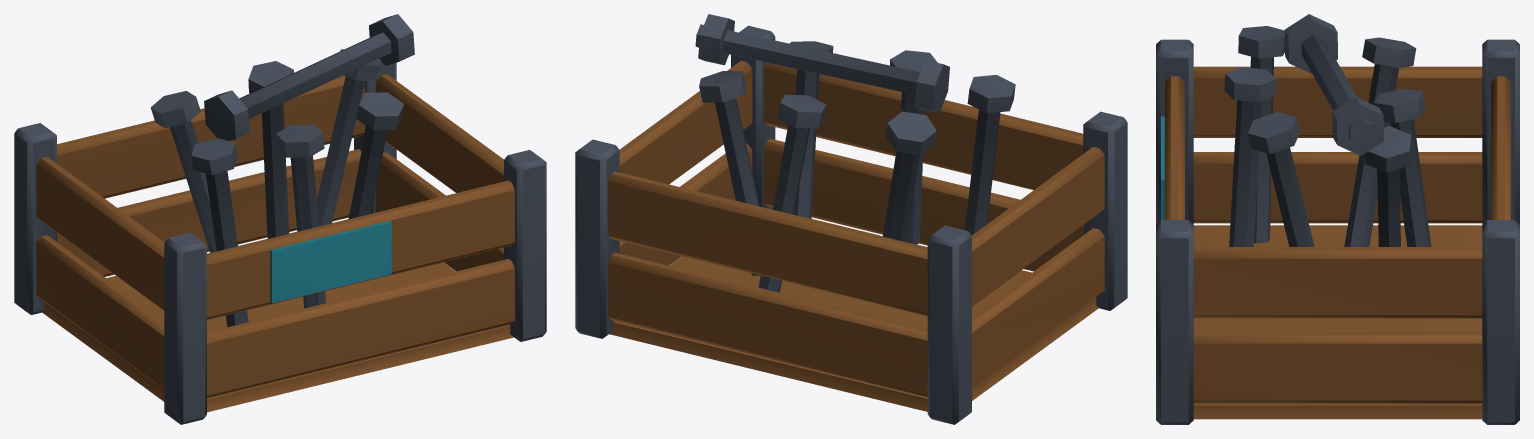
The model's file is iron-bolts.glb.
The picture shows the model from 3 angles, left to right: view 1: azimuth 30°, elevation 25°; view 2: azimuth 150°, elevation 25°; view 3: azimuth 270°, elevation 25°; orthographic projection. The views are drawn at different scales.
Parts seen in each view (by area): view 1: Iron bolts Wood, Iron bolts Iron, Iron bolts Teal paint; view 2: Iron bolts Wood, Iron bolts Iron; view 3: Iron bolts Wood, Iron bolts Iron, Iron bolts Teal paint.
Boxes of the visible parts, x1,y1,x2,y2 form: Iron bolts Wood: (36,74,514,412); Iron bolts Iron: (14,14,546,424); Iron bolts Teal paint: (270,221,391,303); Iron bolts Wood: (608,60,1104,411); Iron bolts Iron: (575,14,1127,424); Iron bolts Wood: (1165,66,1510,419); Iron bolts Iron: (1156,14,1519,424); Iron bolts Teal paint: (1161,116,1164,219).
Size of the model in its own units: 0.37 by 0.2571 by 0.29.
